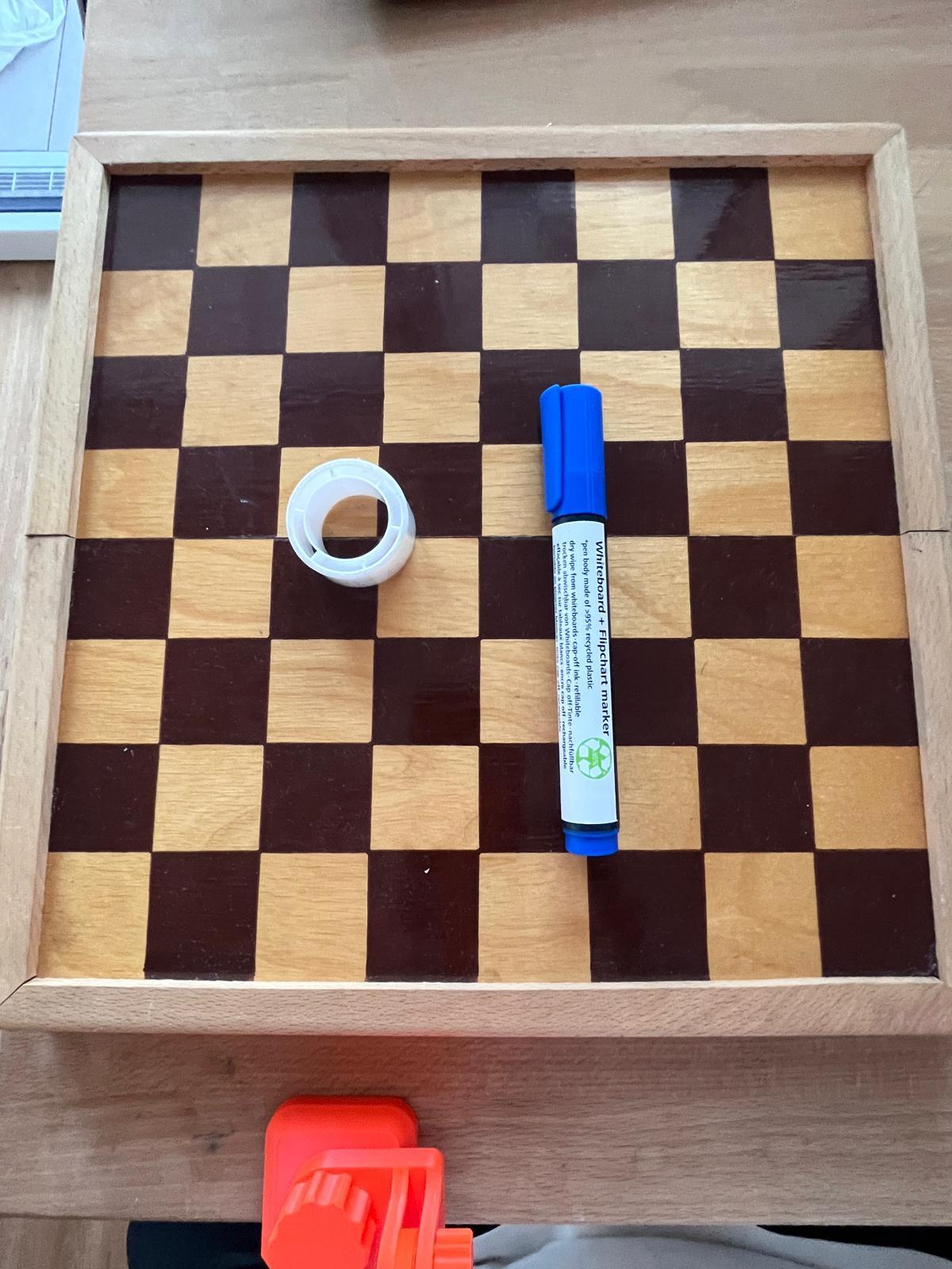marker: (543, 379, 631, 857)
tape: (278, 460, 417, 585)
